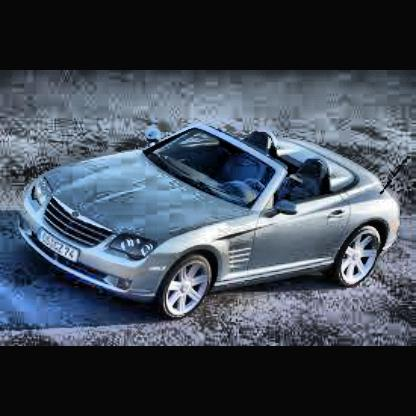Chrysler Crossfire Convertible 2008: (19, 119, 401, 326)
